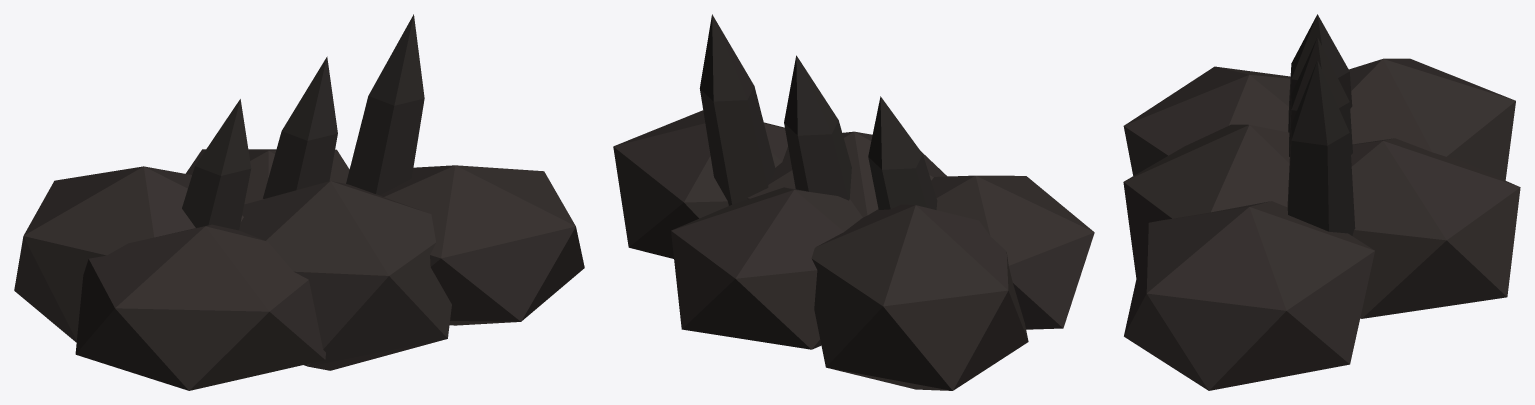
Rendered from RimRock_B.fbx.
The picture shows the model from 3 angles, left to right: view 1: azimuth 30°, elevation 25°; view 2: azimuth 150°, elevation 25°; view 3: azimuth 270°, elevation 25°; orthographic projection. The views are drawn at different scales.
Parts seen in each view (by area): view 1: RimRock_B; view 2: RimRock_B; view 3: RimRock_B.
Part boxes in pixels (x1,y1,x2,y2): RimRock_B: [14, 14, 584, 390]; RimRock_B: [613, 14, 1094, 390]; RimRock_B: [1123, 14, 1520, 390].
Bounding box in the file's own units: 2.34 × 1.45 × 1.58.
1 material, 1 textured.
